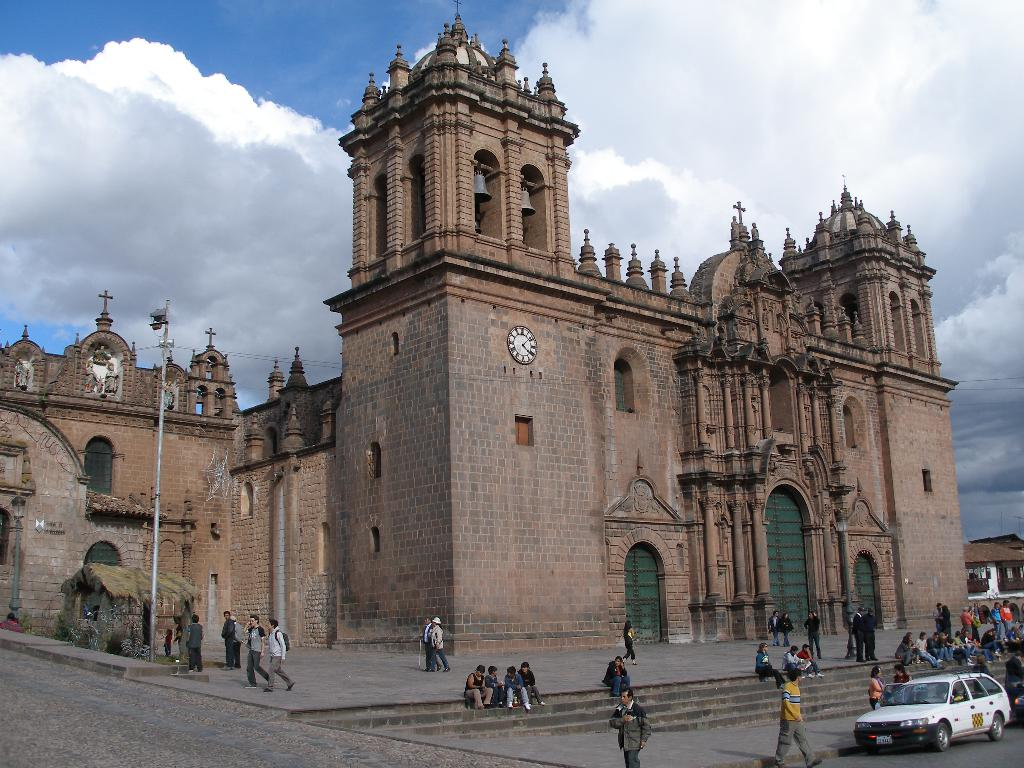Car: (849, 669, 1008, 752), (1012, 698, 1023, 715)
